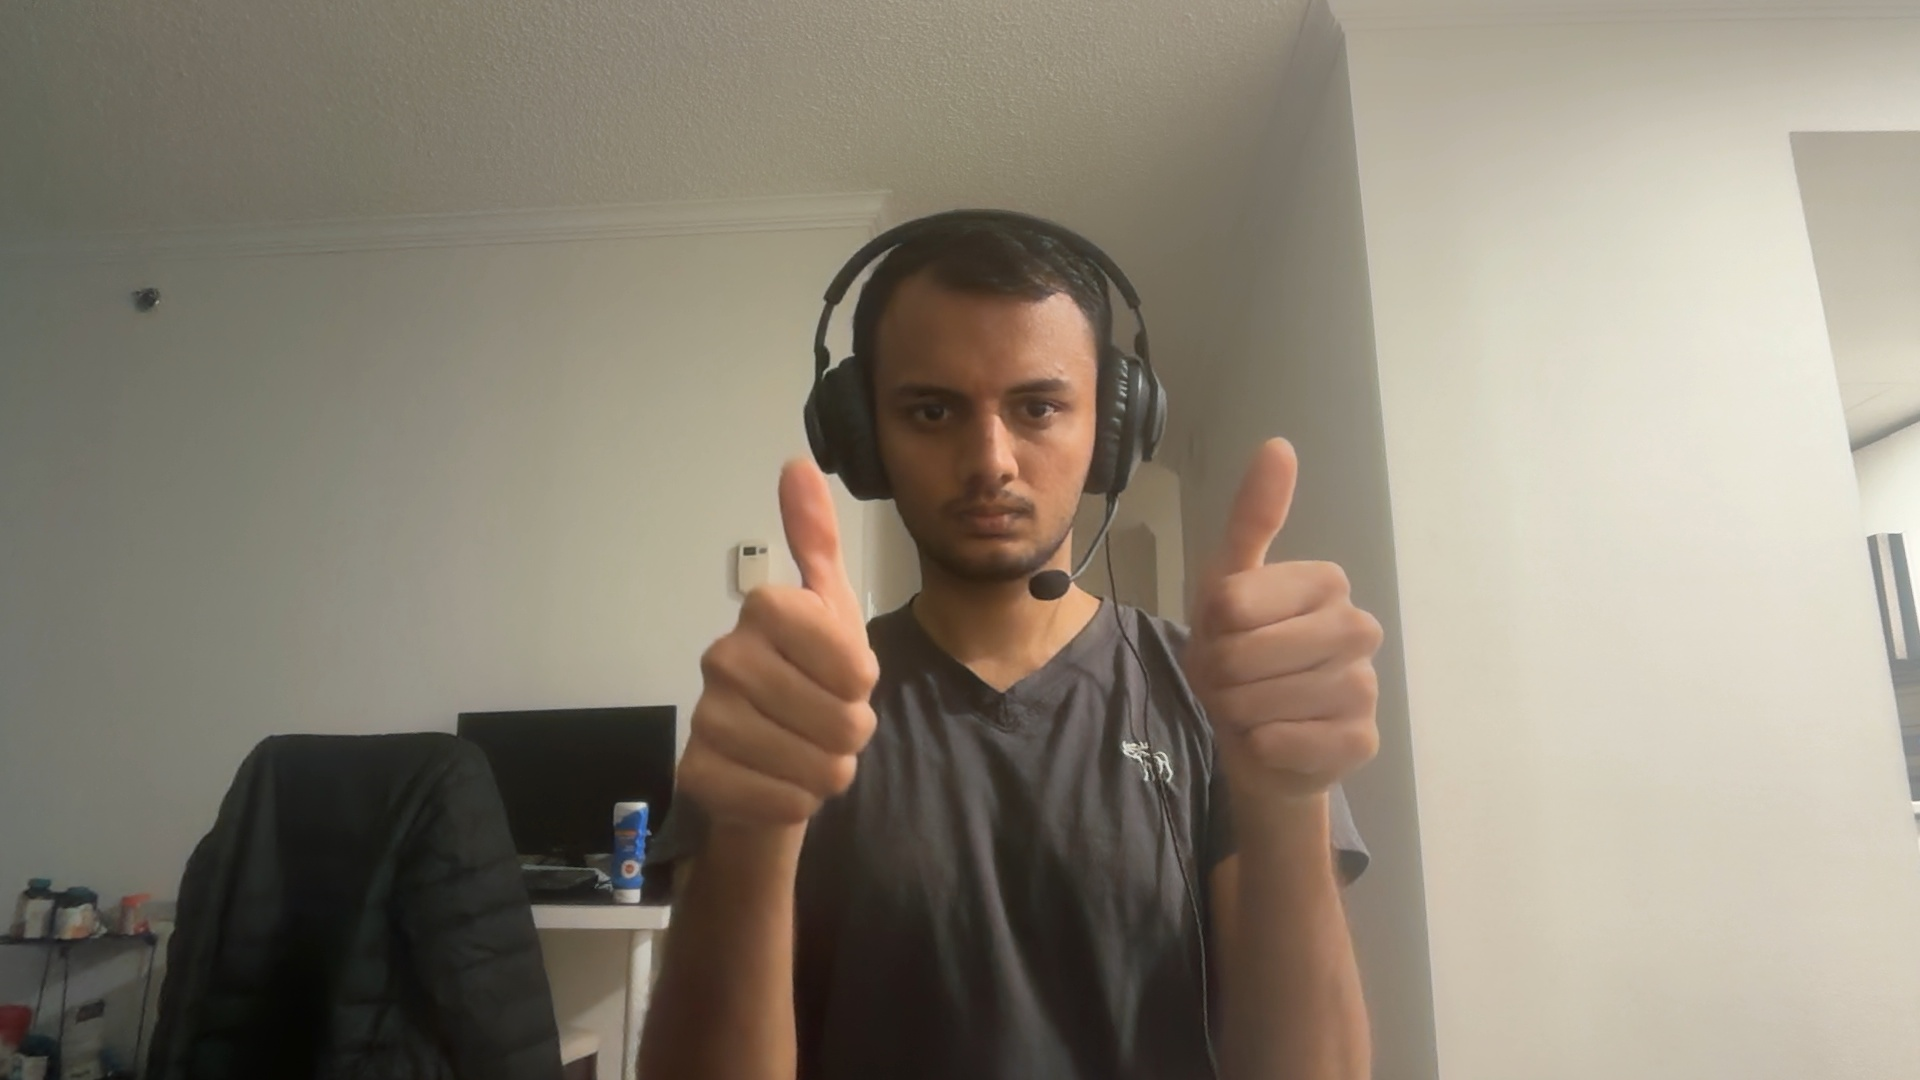thumbsup: (1192, 436, 1386, 800)
